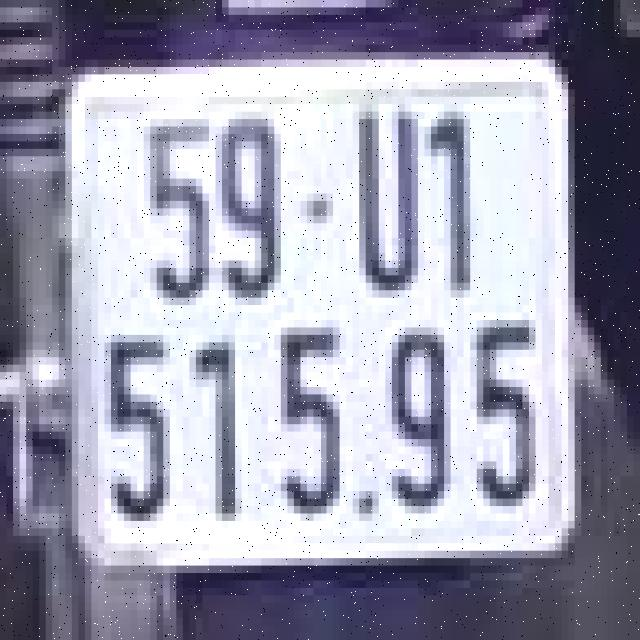1: (428, 100, 493, 302), (190, 312, 248, 521)
5: (261, 316, 353, 525), (140, 100, 226, 316), (464, 302, 548, 518), (94, 324, 180, 532)
9: (378, 320, 464, 513), (212, 93, 291, 301)
U: (336, 89, 422, 305)
